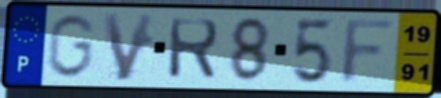5: (289, 16, 338, 86)
8: (227, 16, 272, 84)
F: (336, 17, 400, 88)
G: (43, 12, 98, 80)
R: (166, 16, 222, 82)
V: (100, 11, 158, 84)
